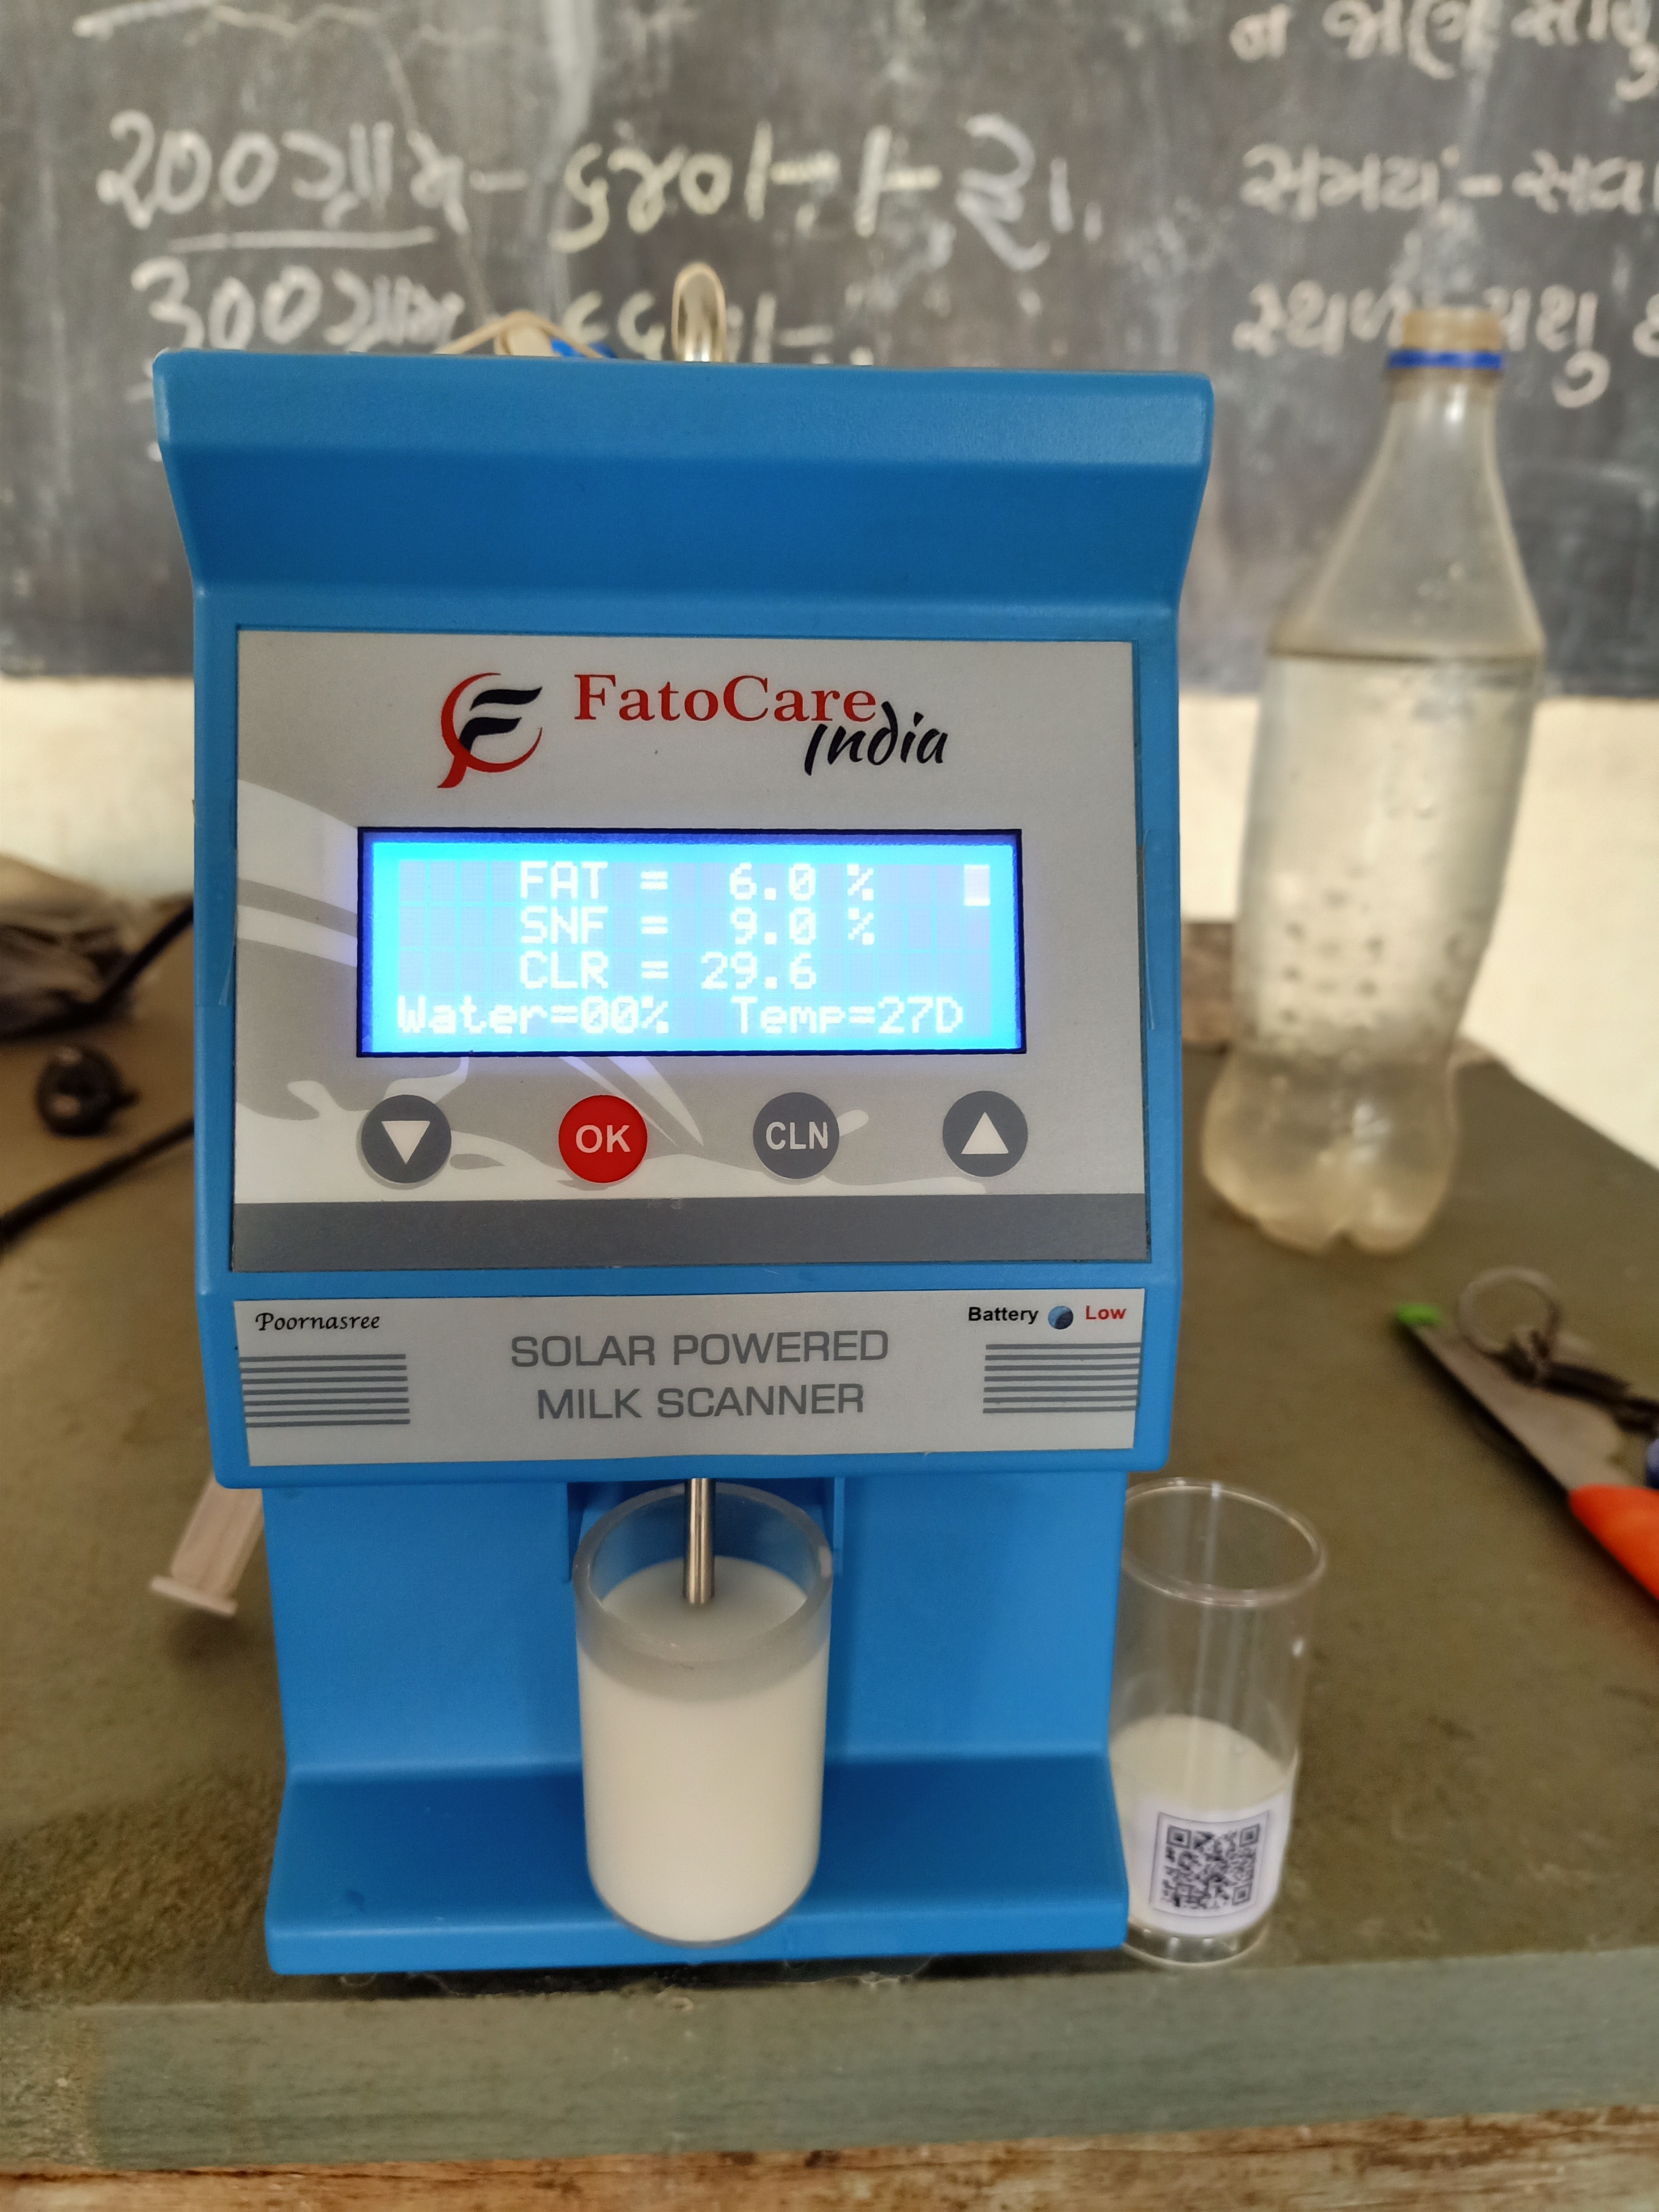lcd: (347, 808, 1049, 1096)
qr: (1134, 1797, 1291, 1946)
